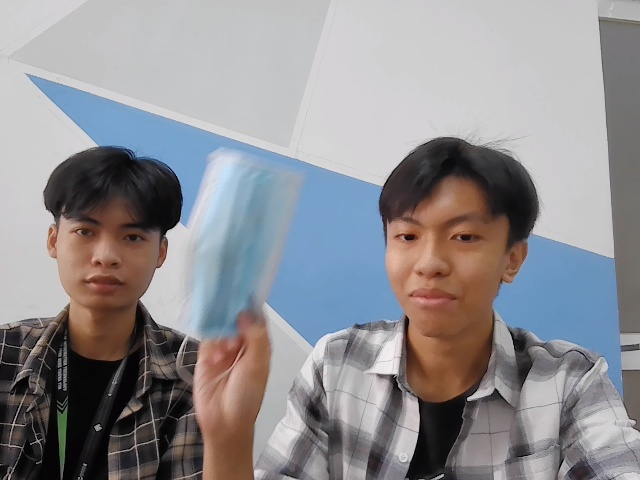human: (362, 140, 541, 332), (45, 141, 182, 322)
mask: (178, 135, 304, 351)
